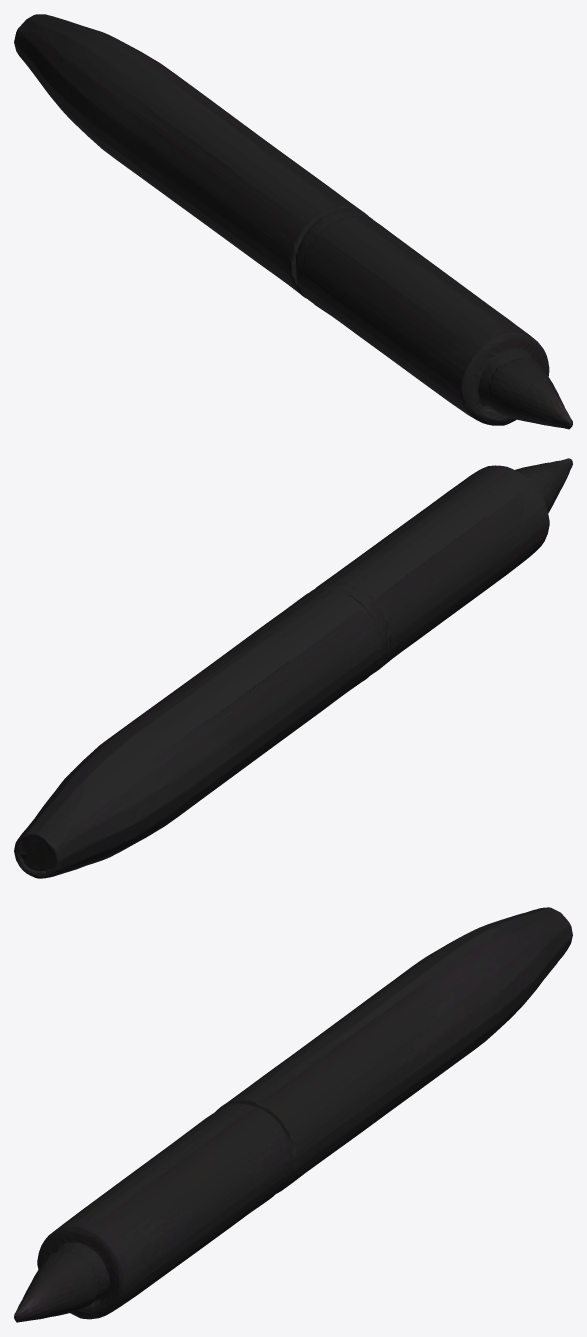
The picture shows the model from 3 angles, top to bottom: view 1: azimuth 30°, elevation 25°; view 2: azimuth 150°, elevation 25°; view 3: azimuth 330°, elevation 25°; orthographic projection.
Parts seen in each view (by area): view 1: pen.obj; view 2: pen.obj; view 3: pen.obj.
Boxes of the visible parts, left/top/right/bottom form: pen.obj: left=14, top=14, right=572, bottom=429; pen.obj: left=14, top=458, right=572, bottom=878; pen.obj: left=14, top=907, right=572, bottom=1322.
Bounding box in the file's own units: 0.0143 × 0.0143 × 0.1433.
1 material, 1 textured.
